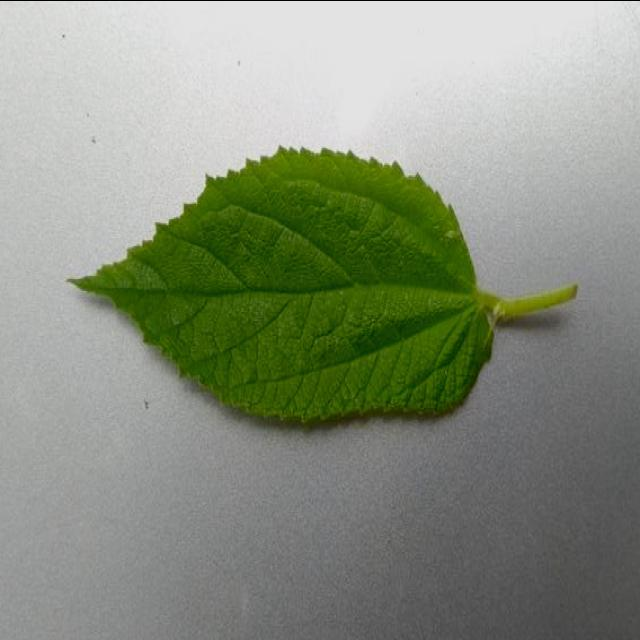leaf: (66, 143, 577, 427)
